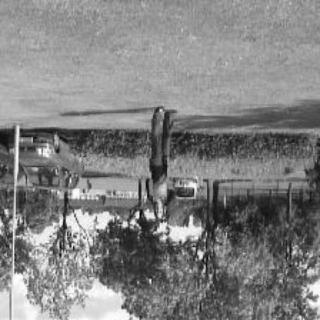other: (147, 160, 175, 209)
